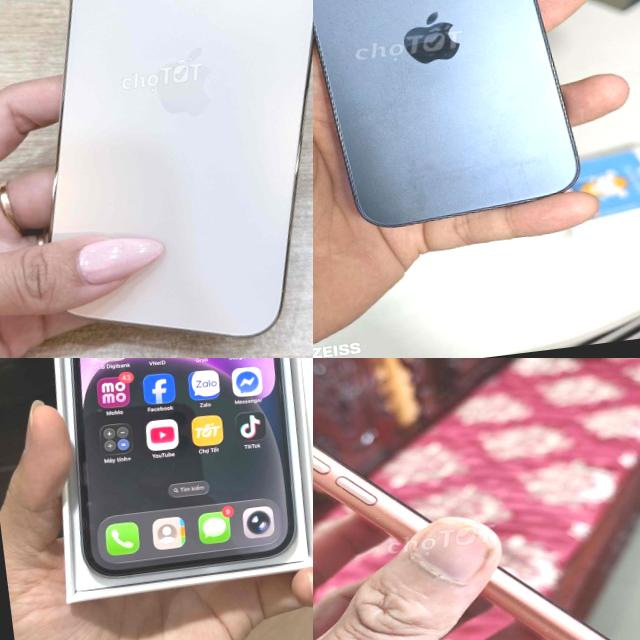scratch: (361, 506, 399, 528), (533, 620, 557, 640)
